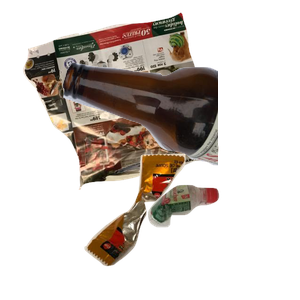glass: (60, 59, 300, 217)
paper: (20, 10, 231, 190)
plastic: (146, 182, 300, 300)
trash: (82, 151, 260, 300)
